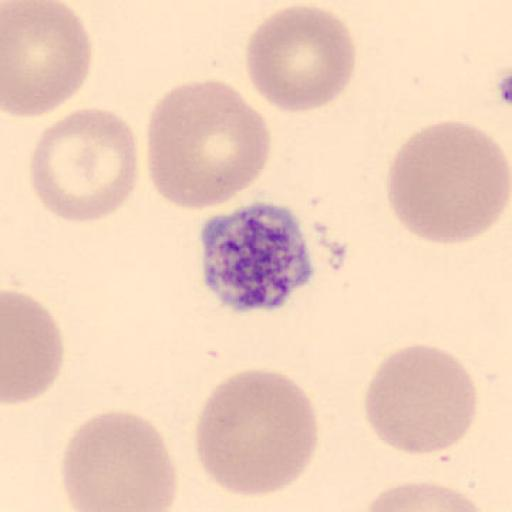Platelet: (196, 198, 317, 314)
RBC: (192, 365, 320, 501), (145, 78, 272, 212), (385, 118, 511, 246), (28, 105, 141, 225), (363, 342, 479, 456), (244, 2, 359, 115), (60, 410, 179, 511), (2, 0, 93, 120), (2, 288, 66, 407), (358, 478, 494, 512)
